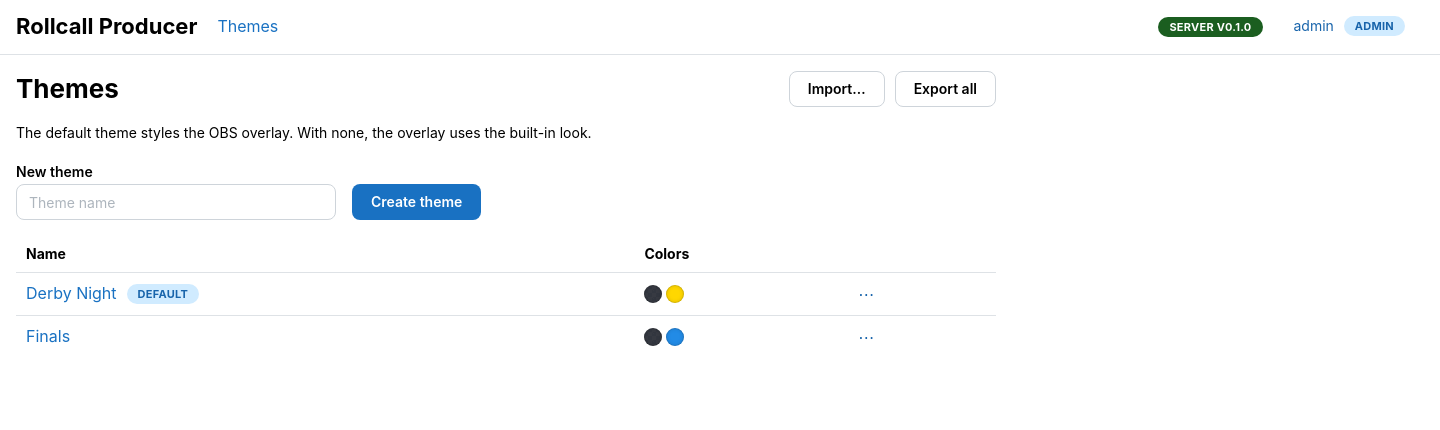
Test: the Themes page › asks for a name before sending anything, and shows a name that is taken
Expected: the link "Derby Night" is shown, [26,281,117,306]
Click the button "Create theme". click: (417, 202)
box: [352,184,481,220]
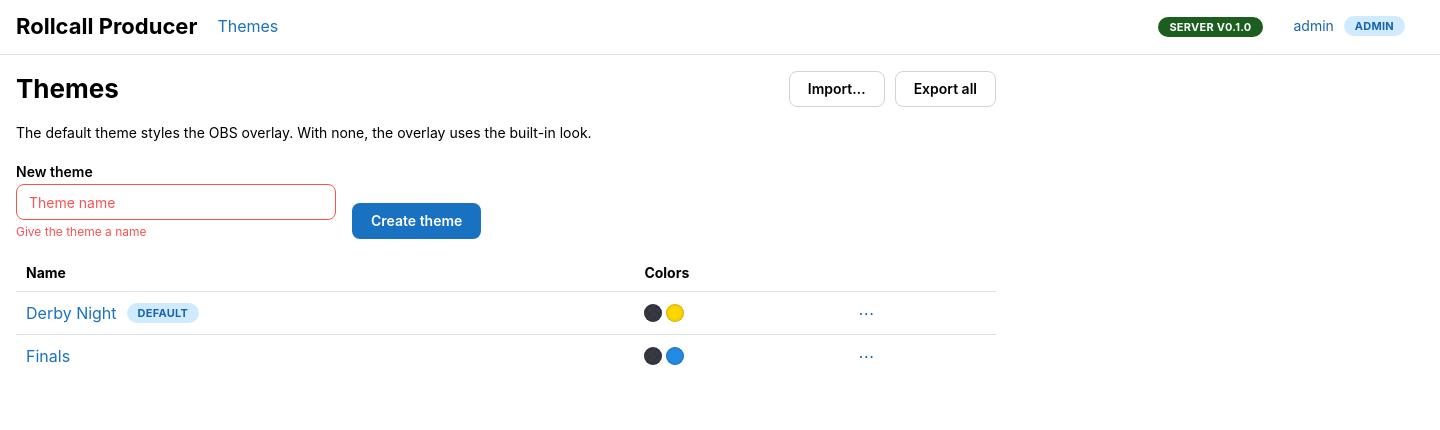
Expected: the text "Give the theme a name" is shown, [16,224,146,239]
Type "Finals" into the field labelled "New theme". click: (176, 202)
box: [16,184,336,220]
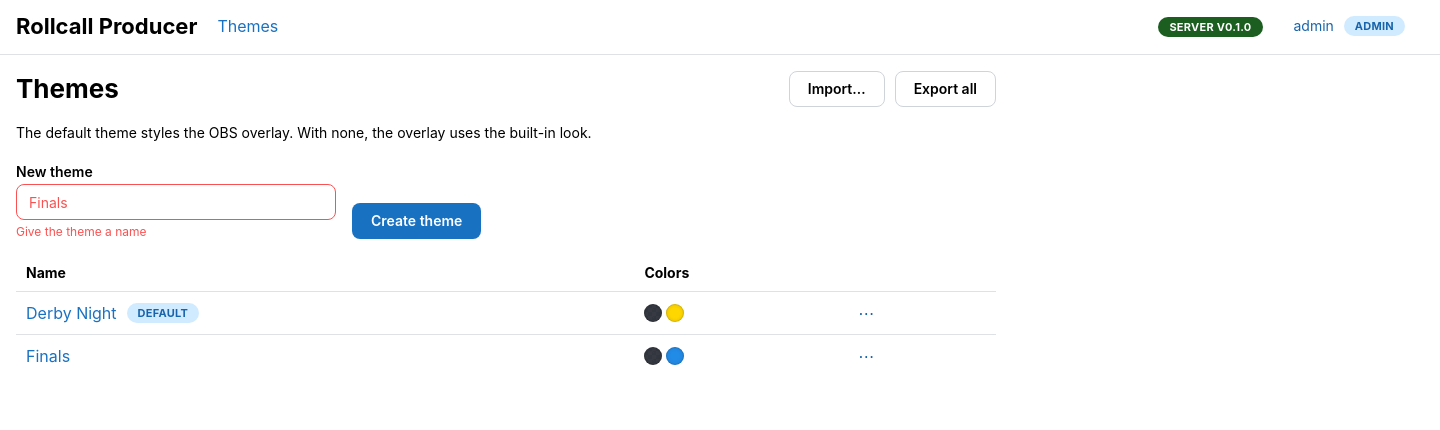
Click the button "Create theme". click: (417, 222)
box: [352,204,481,240]
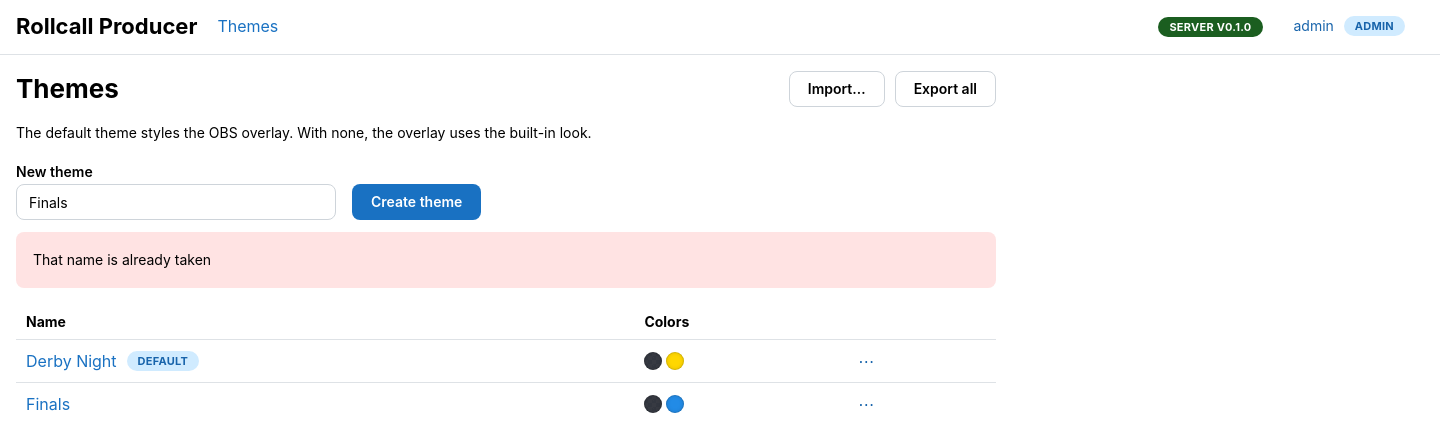
Expected: the text "That name is already taken" is shown, [33,251,211,268]
